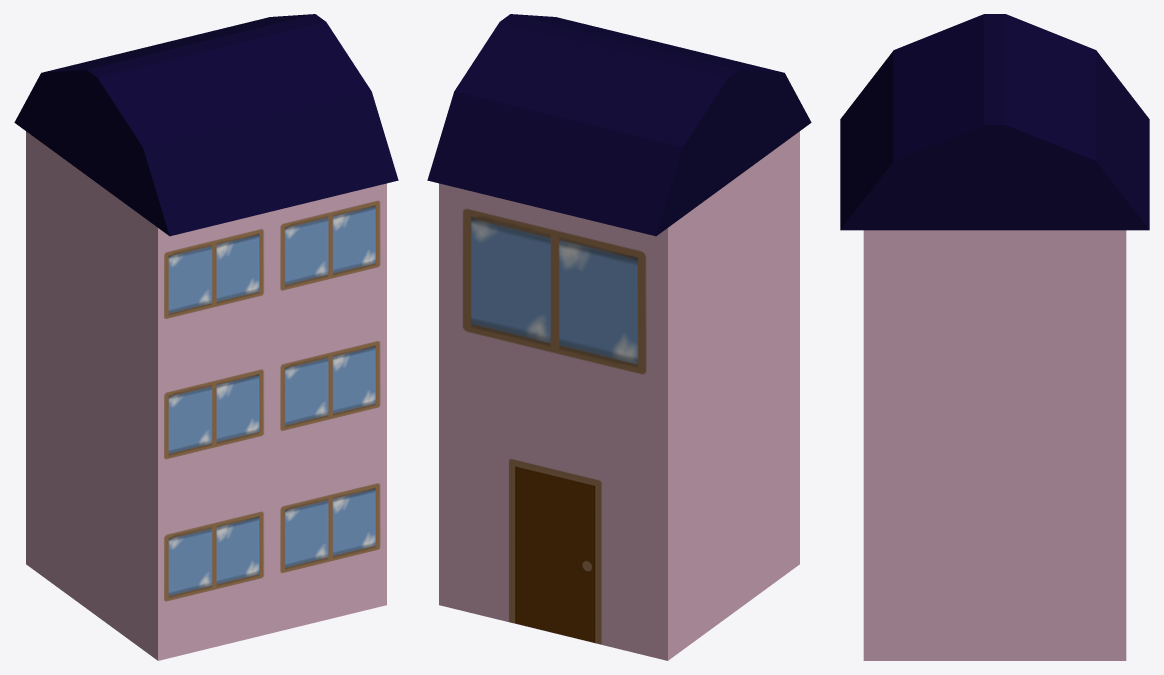
The model's file is Building1.fbx.
The picture shows the model from 3 angles, left to right: view 1: azimuth 30°, elevation 25°; view 2: azimuth 150°, elevation 25°; view 3: azimuth 270°, elevation 25°; orthographic projection.
Visible parts, largest first — view 1: pCube8; view 2: pCube8; view 3: pCube8.
Part boxes in pixels (left/top/right/bottom): pCube8: left=14, top=14, right=398, bottom=660; pCube8: left=427, top=14, right=811, bottom=660; pCube8: left=840, top=14, right=1149, bottom=660.
Size of the model in its own units: 2.64 by 5.94 by 3.11.
